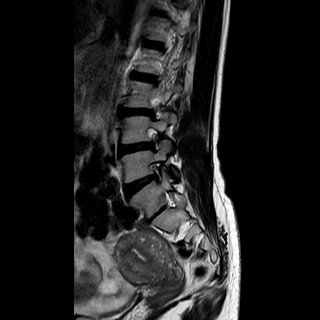RFS2: (139, 122, 165, 154)
RFS3: (141, 156, 168, 189)
